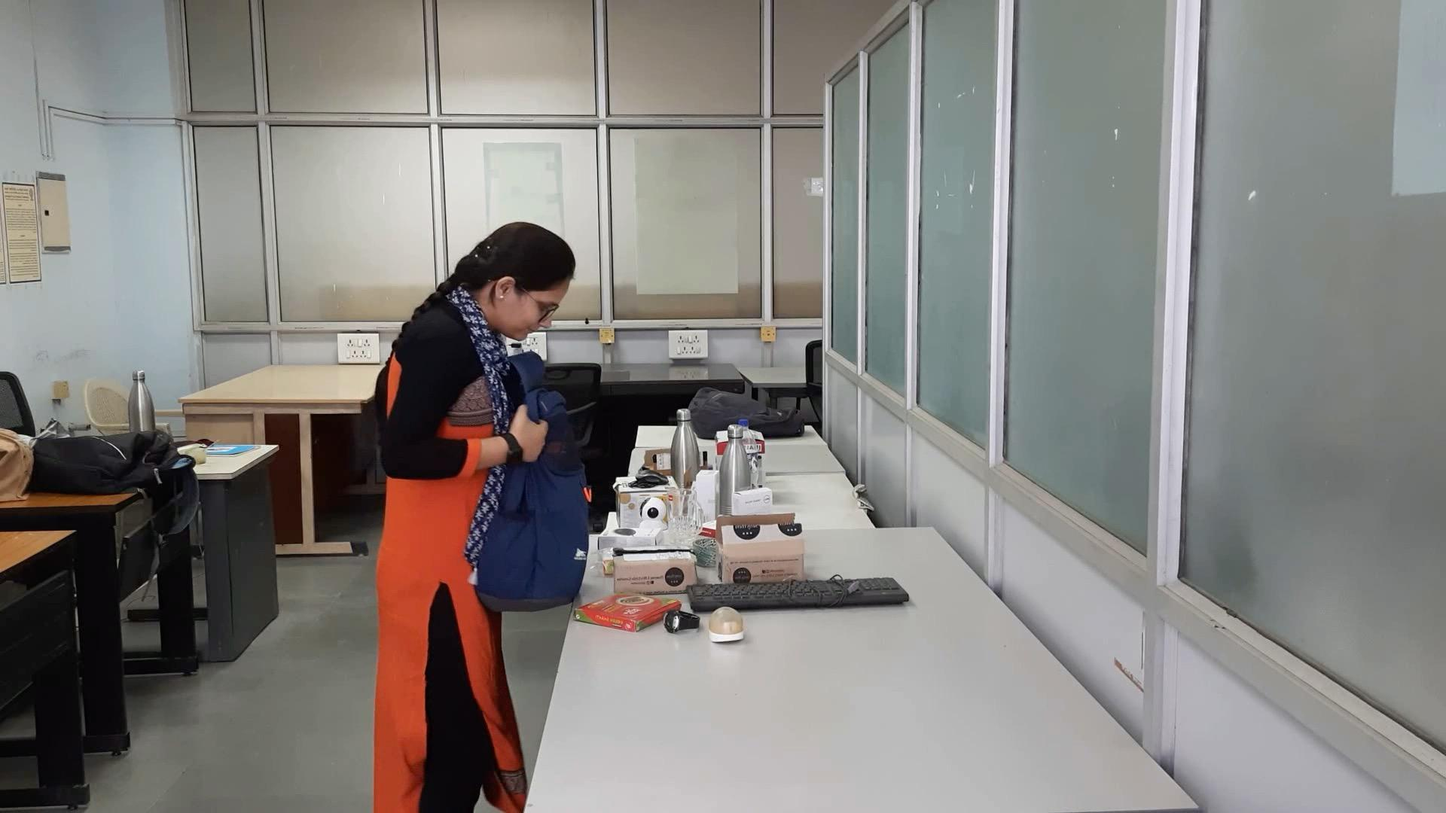shoplifting: (282, 347, 711, 648)
